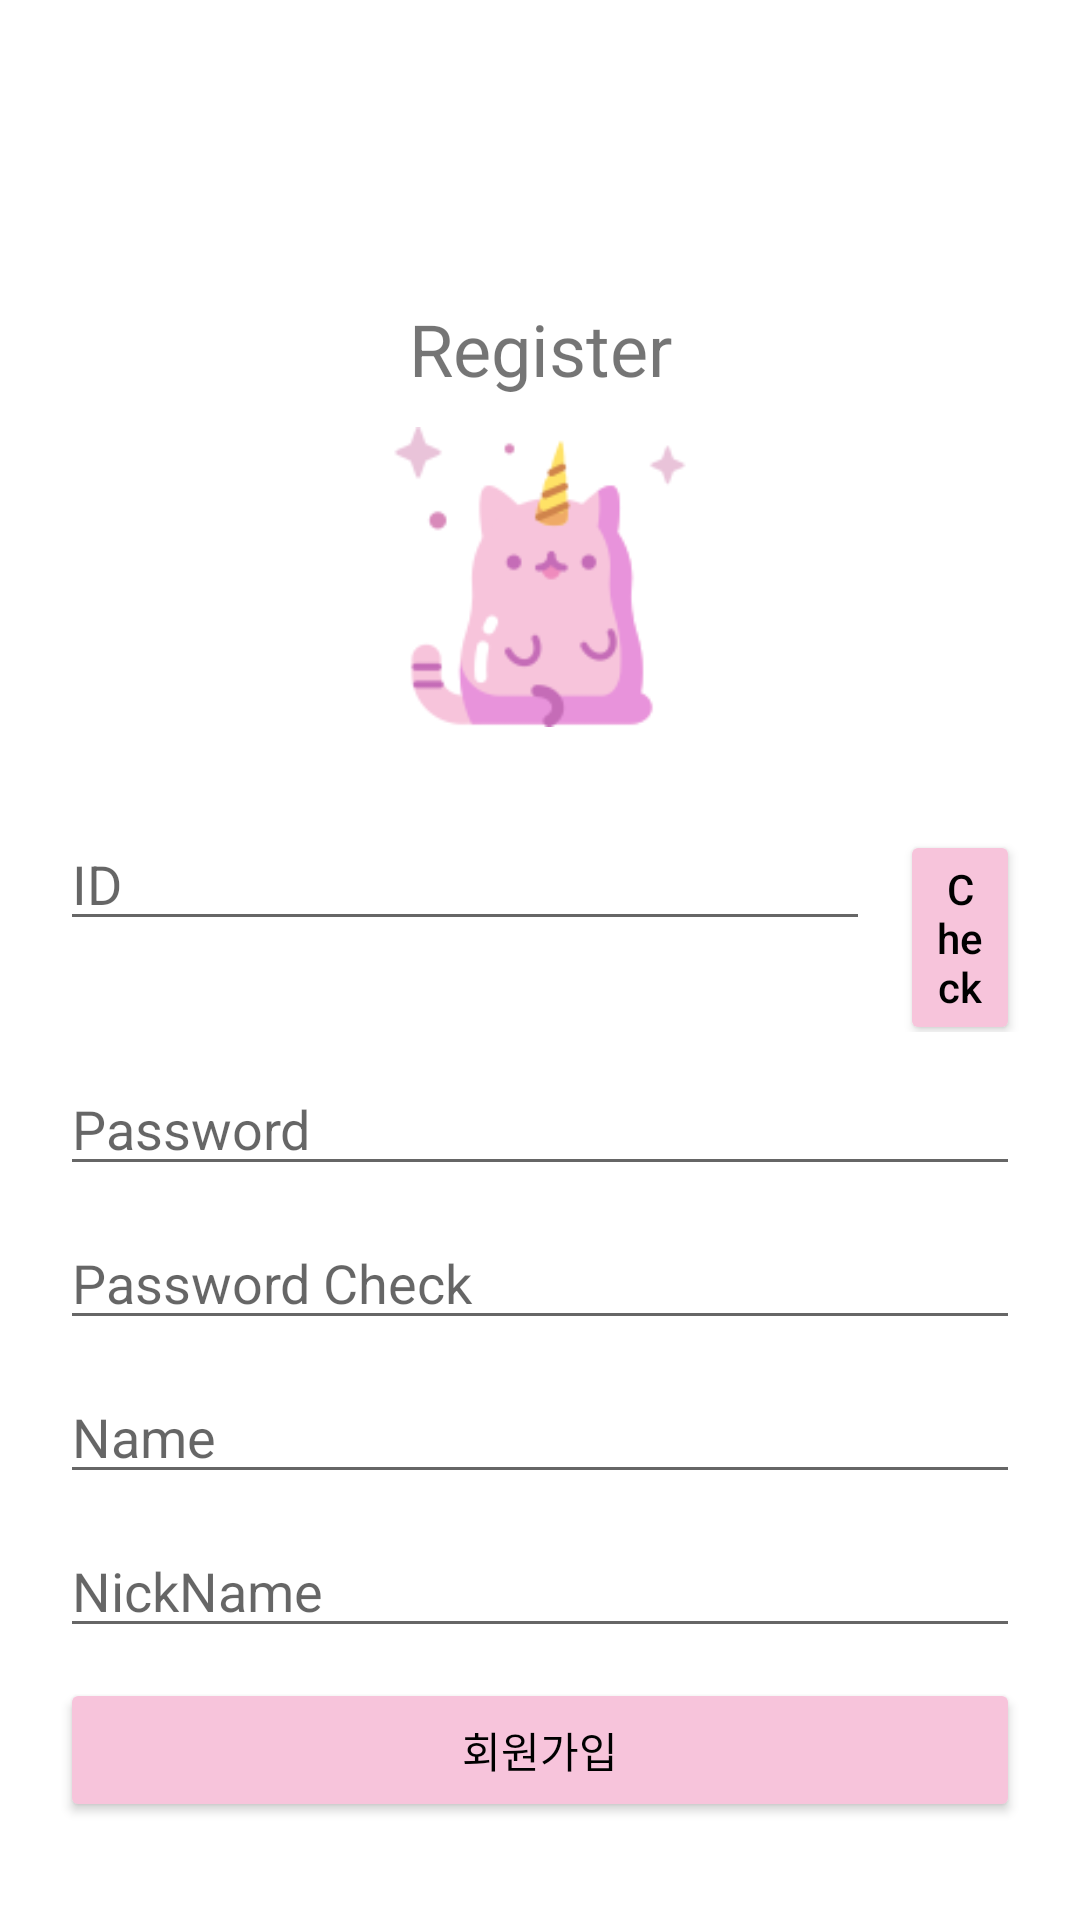

Named icons in this screenshot (1080×1920) and their centers, (x,y):
cat: (540,577)
